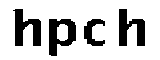c: (82, 17, 110, 49)
h: (117, 2, 152, 53), (9, 4, 43, 50)
p: (46, 16, 77, 60)
